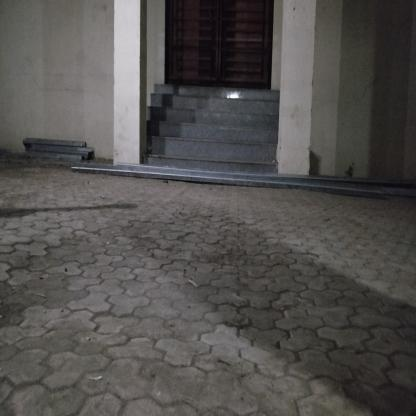stairs: (154, 92, 278, 171)
